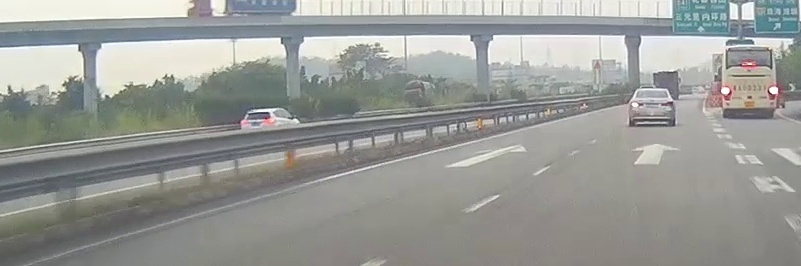L_light: (723, 86, 732, 100), (631, 102, 644, 107), (241, 120, 249, 125)
R_light: (768, 85, 776, 100), (265, 119, 275, 124), (661, 102, 673, 106)
T_light: (742, 61, 756, 66), (253, 112, 261, 114), (648, 90, 656, 91)
day-brake: (720, 45, 779, 118)
day-left: (627, 88, 676, 127)
day-no: (240, 109, 277, 135)
